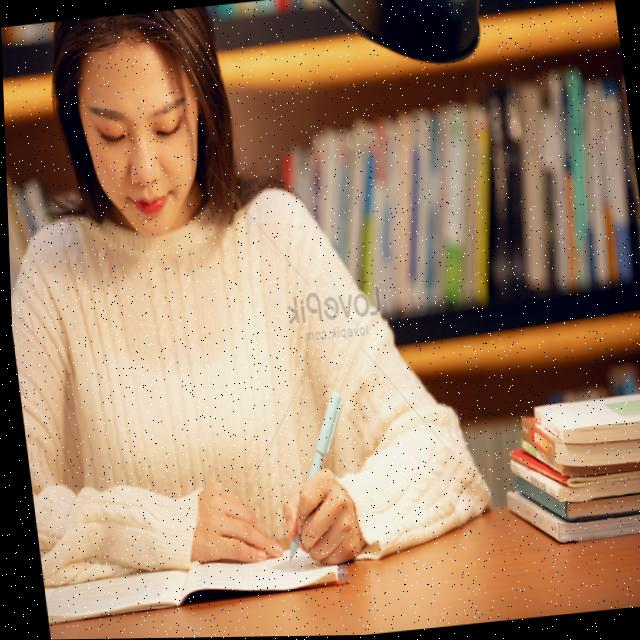studying-person: (0, 0, 486, 635)
